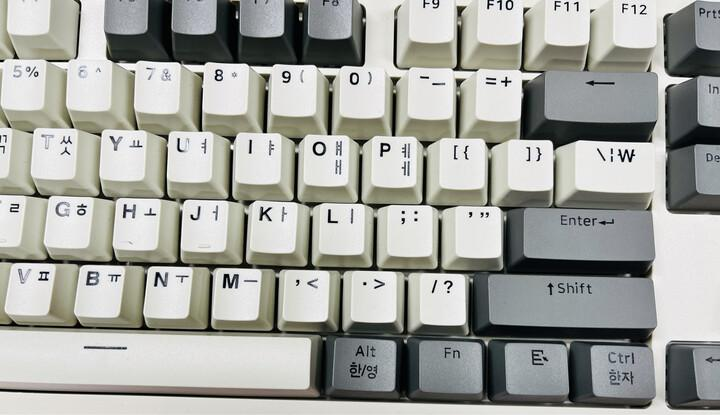keyboard: (1, 0, 718, 413)
